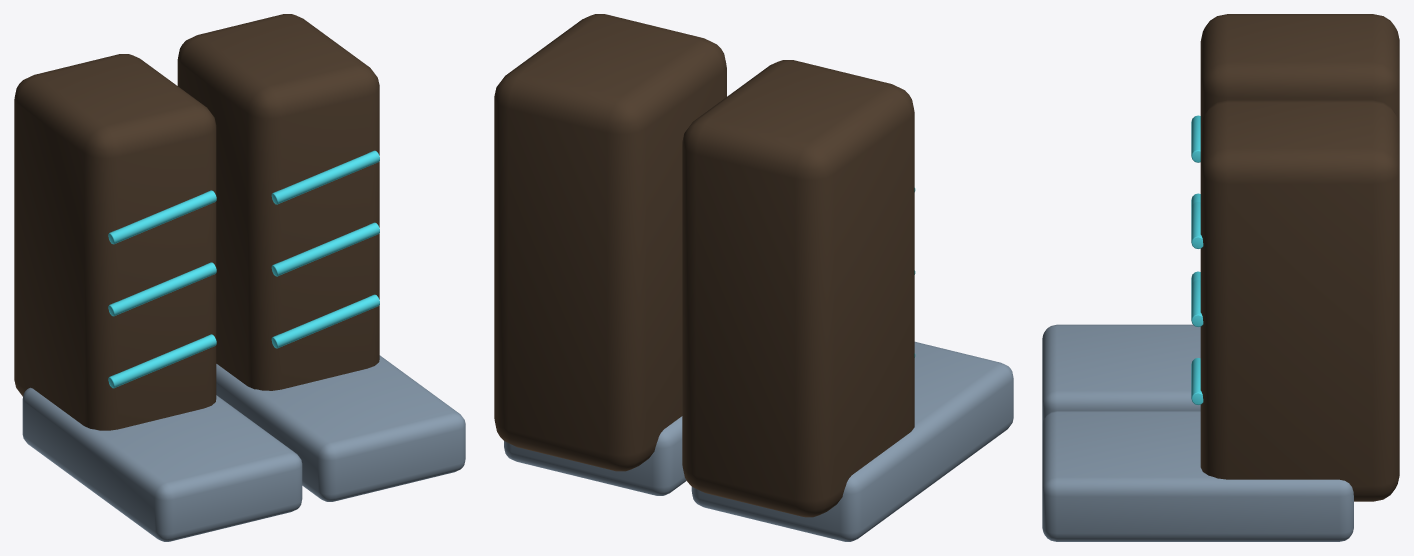
File: boots_v4.glb
3 views of the same model, side by side, from view 1: azimuth 30°, elevation 25°; view 2: azimuth 150°, elevation 25°; view 3: azimuth 270°, elevation 25° (orthographic). The views are drawn at different scales.
Visible parts, largest first — view 1: RANGER_BOOT_SECONDARY, RANGER_BOOT_SECONDARY.001, RANGER_SOLE_PRIMARY, RANGER_SOLE_PRIMARY.001, BOOT_LACE_ACCENT.005, BOOT_LACE_ACCENT.002, BOOT_LACE_ACCENT.004, BOOT_LACE_ACCENT, BOOT_LACE_ACCENT.001, BOOT_LACE_ACCENT.003; view 2: RANGER_BOOT_SECONDARY, RANGER_BOOT_SECONDARY.001, RANGER_SOLE_PRIMARY, RANGER_SOLE_PRIMARY.001; view 3: RANGER_BOOT_SECONDARY.001, RANGER_SOLE_PRIMARY.001, RANGER_BOOT_SECONDARY, RANGER_SOLE_PRIMARY, BOOT_LACE_ACCENT.005, BOOT_LACE_ACCENT.003, BOOT_LACE_ACCENT.004, BOOT_LACE_ACCENT.002.
Part boxes in pixels (bbox=[...]): RANGER_BOOT_SECONDARY: bbox=[14, 54, 216, 430]; RANGER_BOOT_SECONDARY.001: bbox=[177, 14, 379, 390]; RANGER_SOLE_PRIMARY: bbox=[22, 387, 302, 541]; RANGER_SOLE_PRIMARY.001: bbox=[216, 355, 465, 501]; BOOT_LACE_ACCENT.005: bbox=[271, 150, 379, 204]; BOOT_LACE_ACCENT.002: bbox=[108, 190, 216, 244]; BOOT_LACE_ACCENT.004: bbox=[271, 222, 379, 276]; BOOT_LACE_ACCENT: bbox=[108, 334, 216, 388]; BOOT_LACE_ACCENT.001: bbox=[108, 262, 216, 316]; BOOT_LACE_ACCENT.003: bbox=[271, 294, 379, 348]; RANGER_BOOT_SECONDARY: bbox=[682, 60, 914, 517]; RANGER_BOOT_SECONDARY.001: bbox=[494, 14, 726, 471]; RANGER_SOLE_PRIMARY: bbox=[691, 341, 1013, 541]; RANGER_SOLE_PRIMARY.001: bbox=[504, 416, 686, 495]; RANGER_BOOT_SECONDARY.001: bbox=[1200, 100, 1399, 501]; RANGER_SOLE_PRIMARY.001: bbox=[1042, 411, 1353, 541]; RANGER_BOOT_SECONDARY: bbox=[1200, 14, 1399, 126]; RANGER_SOLE_PRIMARY: bbox=[1042, 324, 1200, 423]; BOOT_LACE_ACCENT.005: bbox=[1191, 202, 1203, 248]; BOOT_LACE_ACCENT.003: bbox=[1191, 358, 1203, 404]; BOOT_LACE_ACCENT.004: bbox=[1191, 280, 1203, 326]; BOOT_LACE_ACCENT.002: bbox=[1191, 115, 1200, 162].
Bounding box in the file's own units: 1.44 × 1.57 × 1.33.
